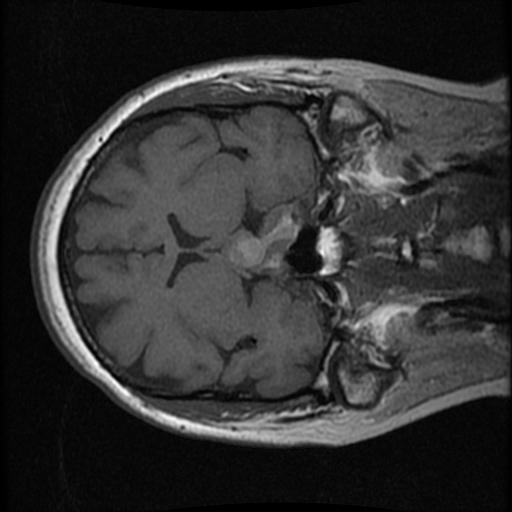pituitary tumour: (227, 206, 303, 274)
